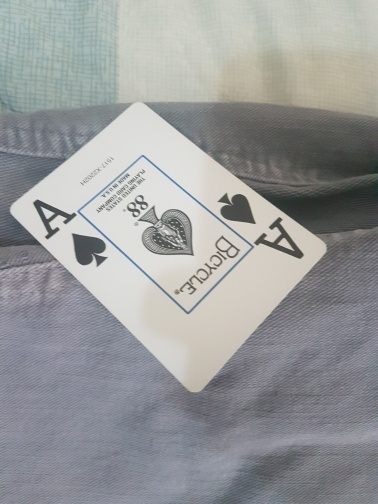ace: (9, 101, 329, 390)
